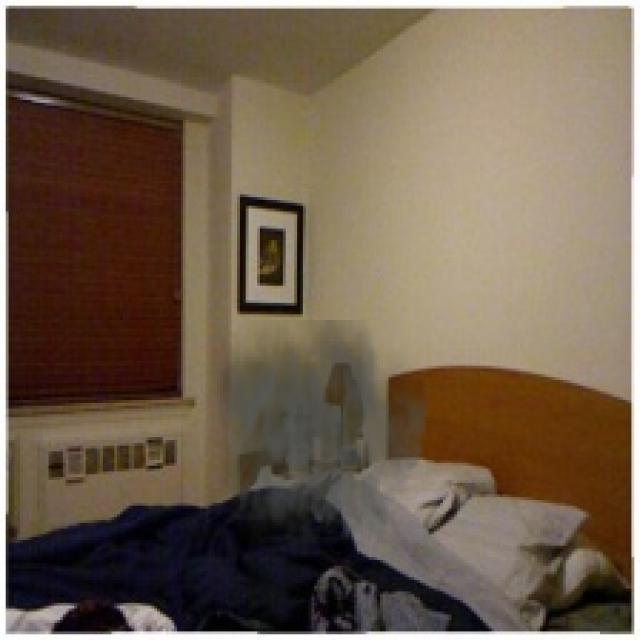smoke: (206, 320, 426, 569)
